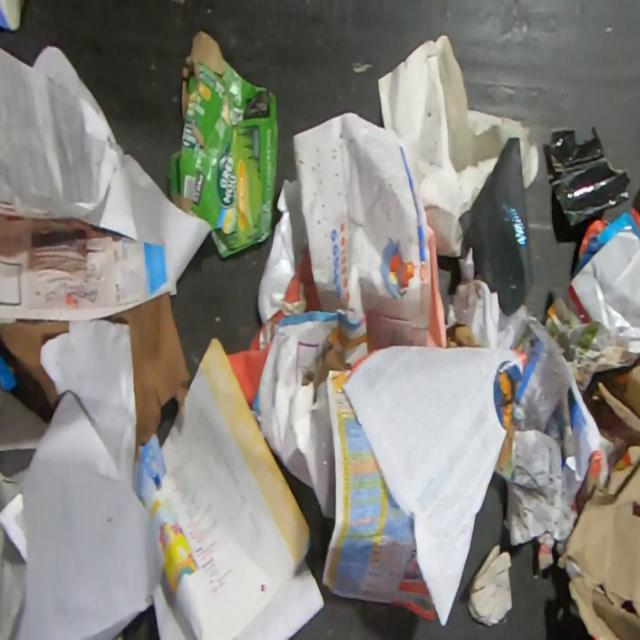cardboard: (166, 29, 279, 261), (556, 358, 640, 640), (94, 291, 194, 462), (542, 122, 632, 232), (0, 319, 70, 417), (466, 544, 514, 628), (313, 347, 347, 388), (446, 320, 485, 350)
soft_plastic: (456, 136, 536, 320), (256, 175, 310, 326)
